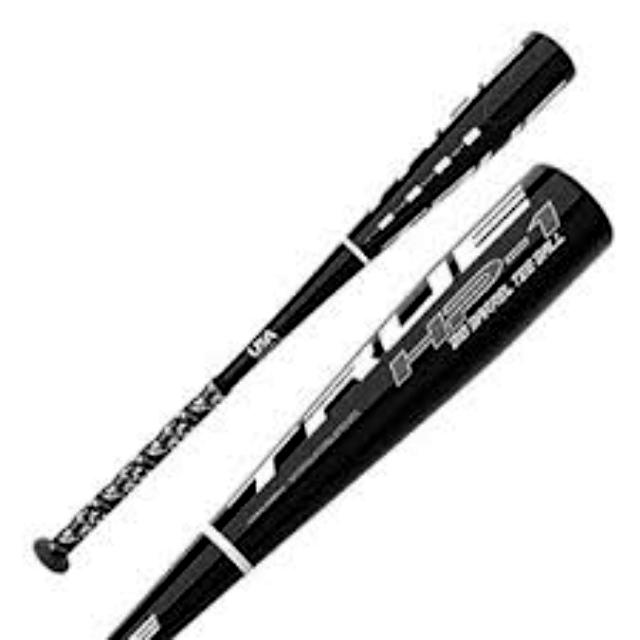baseball bat: (42, 25, 574, 571), (95, 160, 619, 640)
